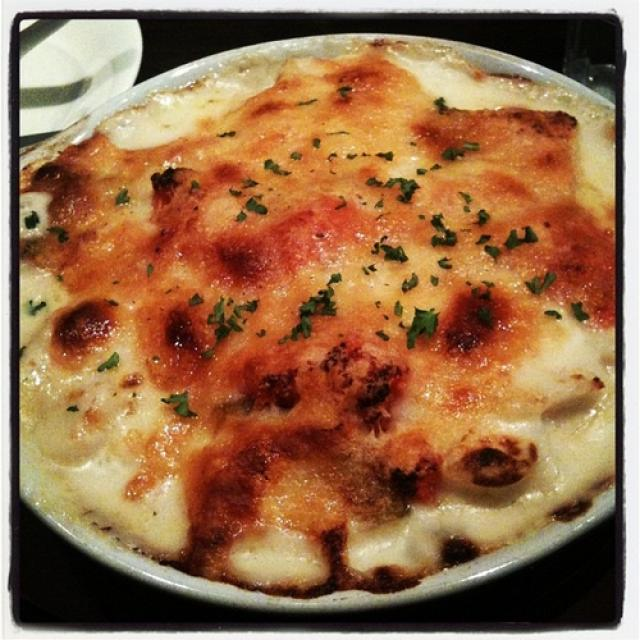米饭主食: (29, 37, 606, 599)
